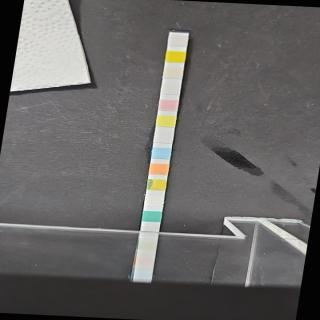mark: (152, 147, 170, 160), (149, 163, 168, 175), (156, 115, 175, 127), (158, 99, 177, 111), (163, 67, 182, 79), (154, 131, 172, 143), (161, 84, 180, 95), (165, 51, 184, 62), (147, 178, 165, 189), (146, 194, 163, 205), (168, 36, 186, 46), (144, 211, 160, 222)
